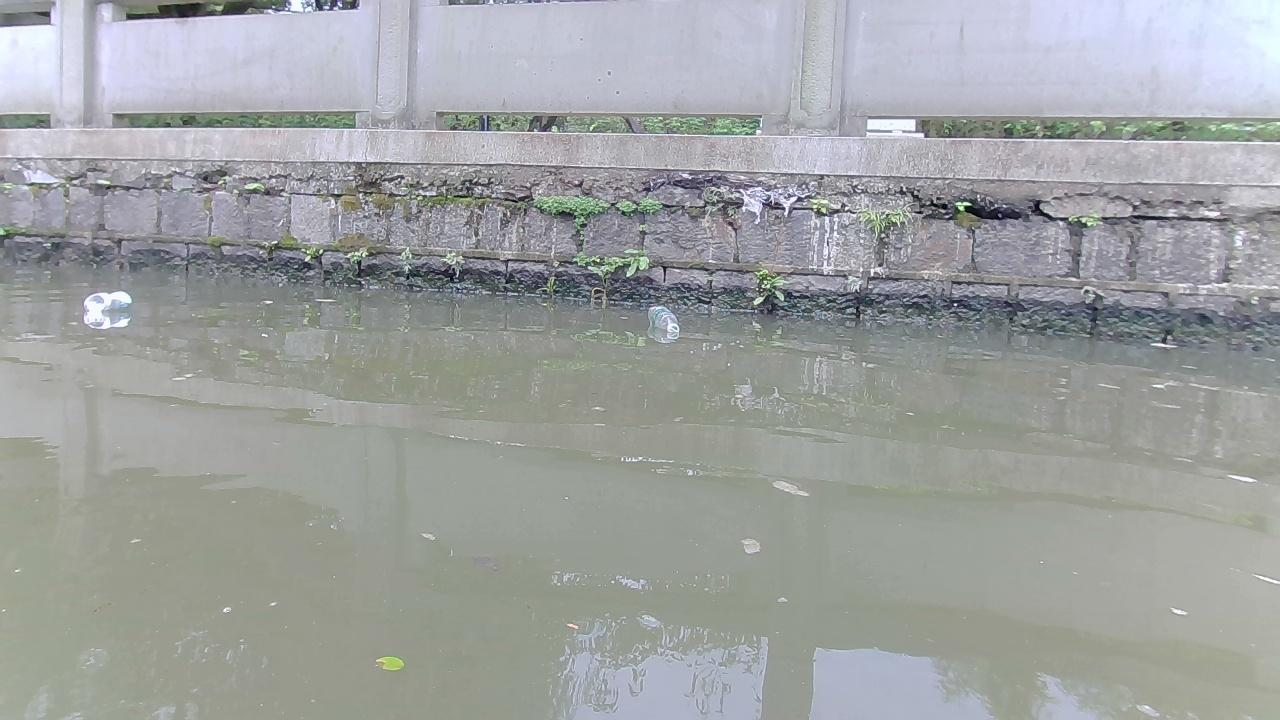bottle: (81, 289, 132, 312), (646, 304, 680, 332)
